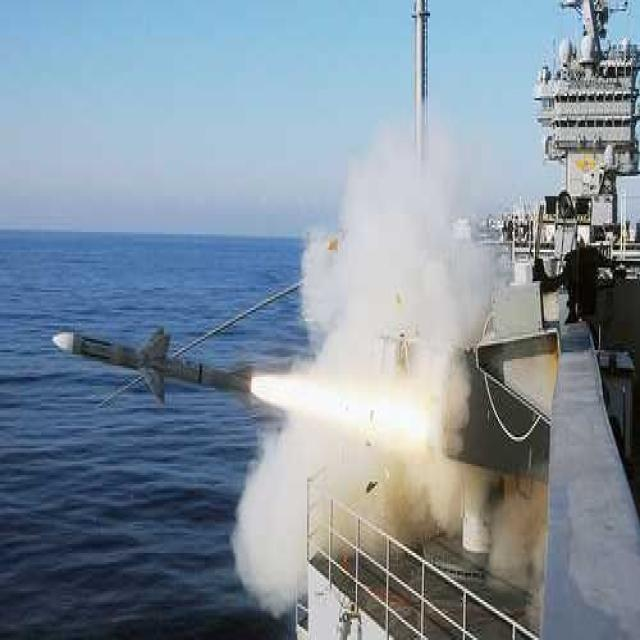missile: (53, 314, 255, 419)
